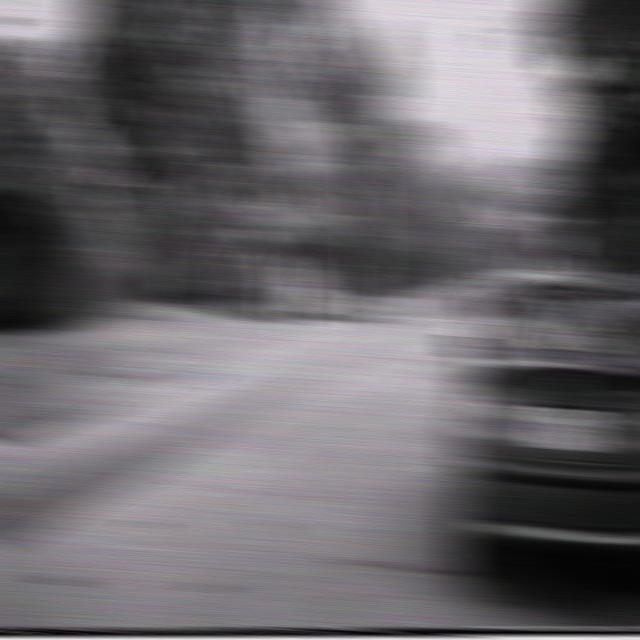stop_sign: (543, 228, 578, 256)
